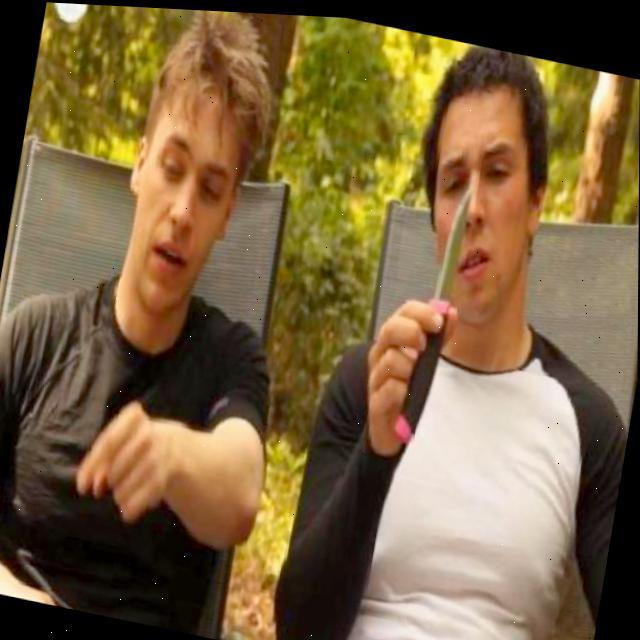knife: (394, 172, 477, 444)
